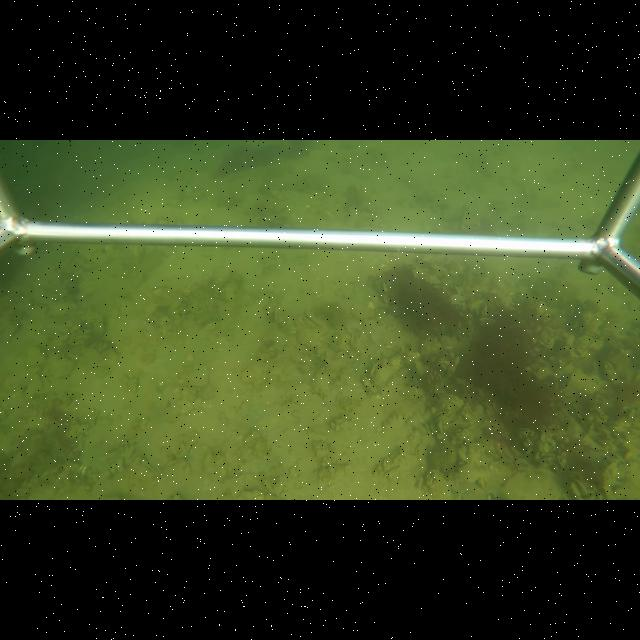Oyster-Closed: (368, 357, 406, 392)
